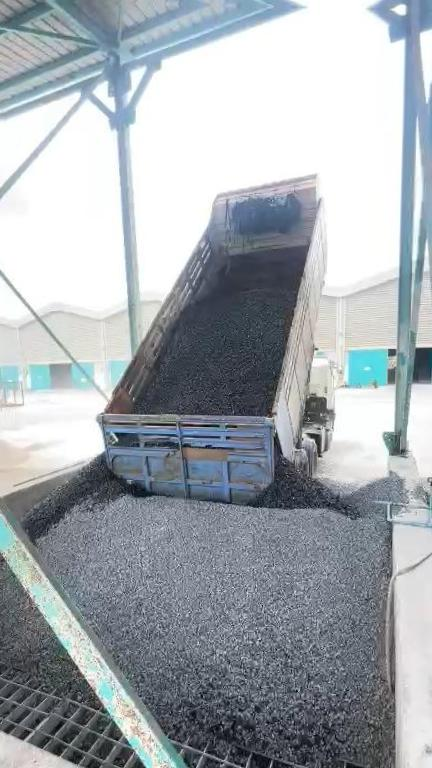gravel: (18, 435, 406, 767), (134, 292, 288, 418), (0, 556, 86, 701)
sand: (0, 438, 62, 494)
